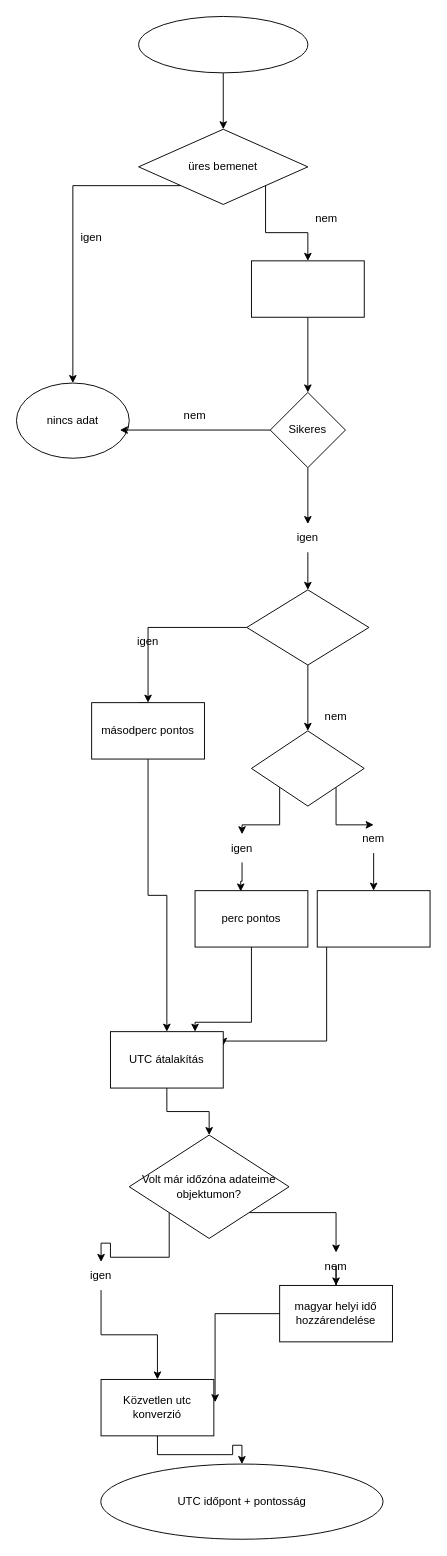
The diagram is 447 pixels wide and 1556 high, and some of its shapes have lost their labels. The shapes that lost their labels are listed below. From the top down, each one's box as (x1, y1, x2, y2) in pixels, then its label:
(138, 16, 308, 73): Kezdő állapot
(251, 260, 364, 317): szöveg értelmezése a datáum_felbontás()-as
(246, 589, 369, 665): van másodperc a szövegben?
(251, 730, 364, 806): van perc a szövegben?
(316, 890, 430, 947): nap pontos
